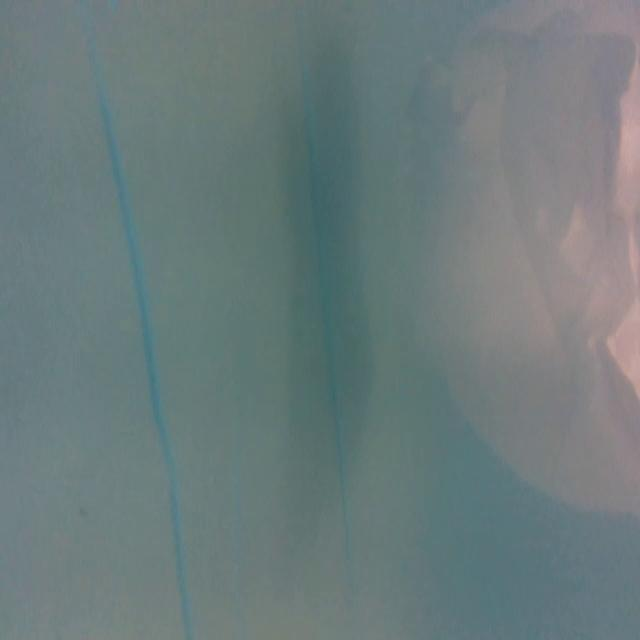plastic bags: (408, 9, 640, 518)
